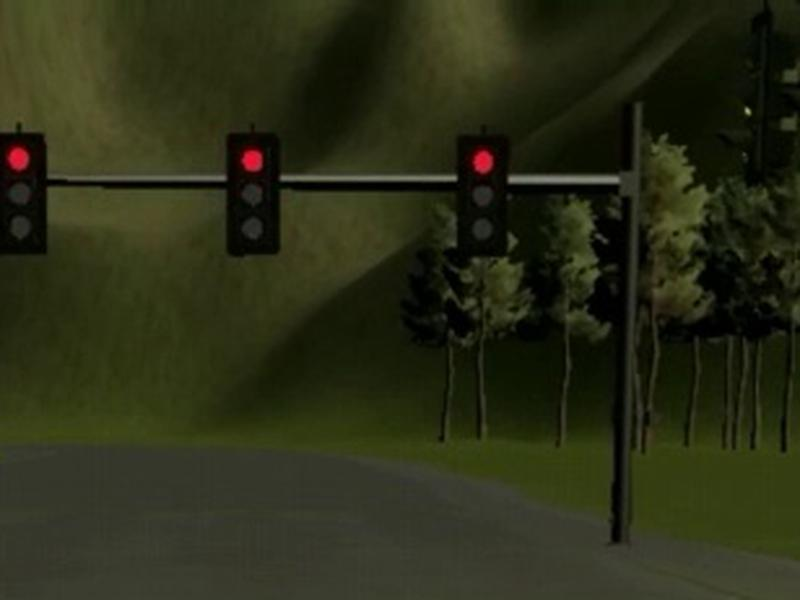Red: (225, 134, 281, 256), (457, 134, 509, 254), (1, 133, 46, 256)
